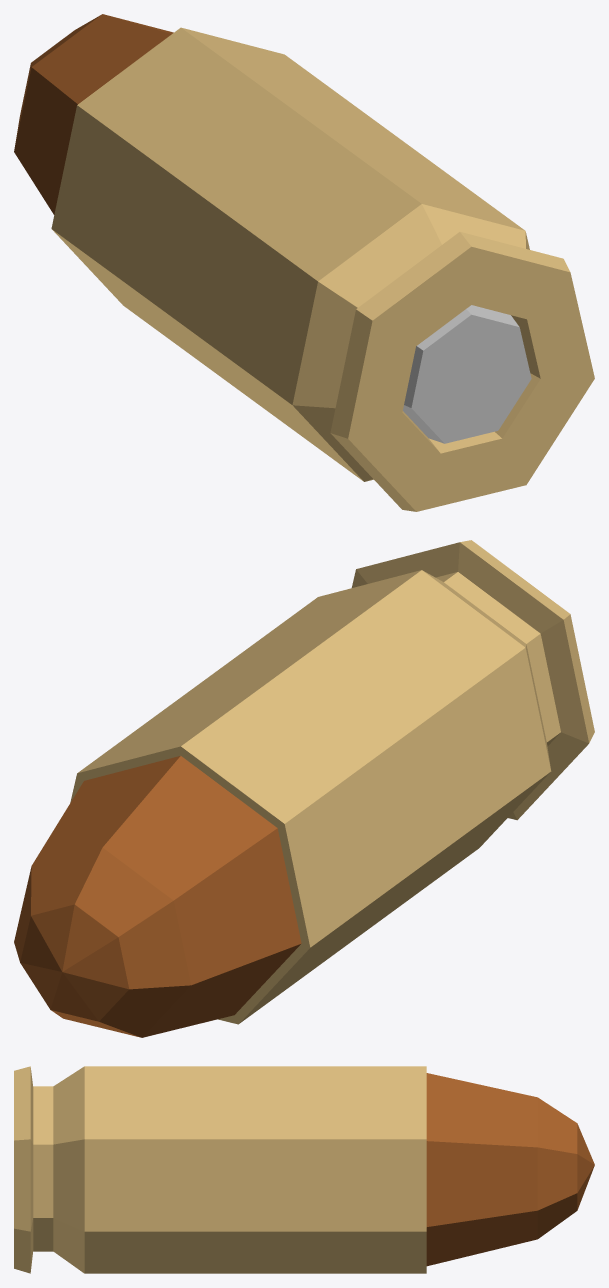
File: Pistol_Round.fbx
3 views of the same model, one above another, from view 1: azimuth 30°, elevation 25°; view 2: azimuth 150°, elevation 25°; view 3: azimuth 270°, elevation 25° (orthographic). The views are drawn at different scales.
Visible parts, largest first — view 1: round; view 2: round; view 3: round.
Part boxes in pixels (x1,y1,x2,y2): round: (14,14,594,511); round: (14,540,594,1037); round: (14,1066,594,1273).
Size of the model in its own units: 1.17 by 1.14 by 3.2.
